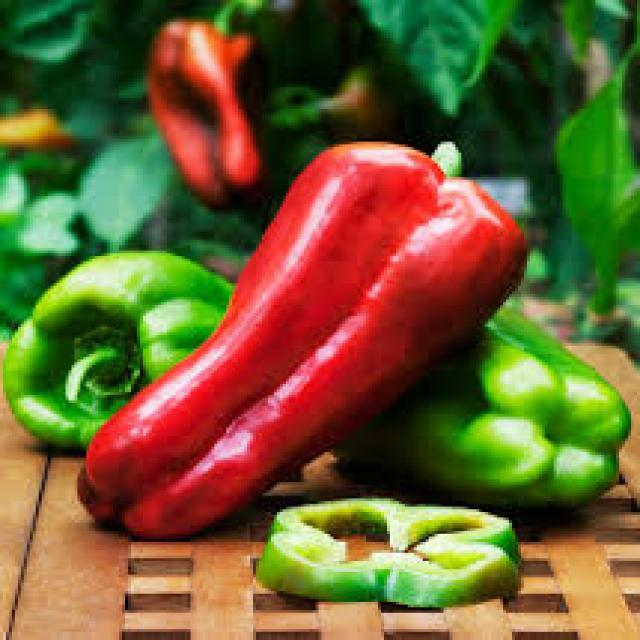Pepper: (76, 143, 529, 544), (328, 297, 632, 536), (2, 252, 233, 453), (146, 18, 269, 210)
